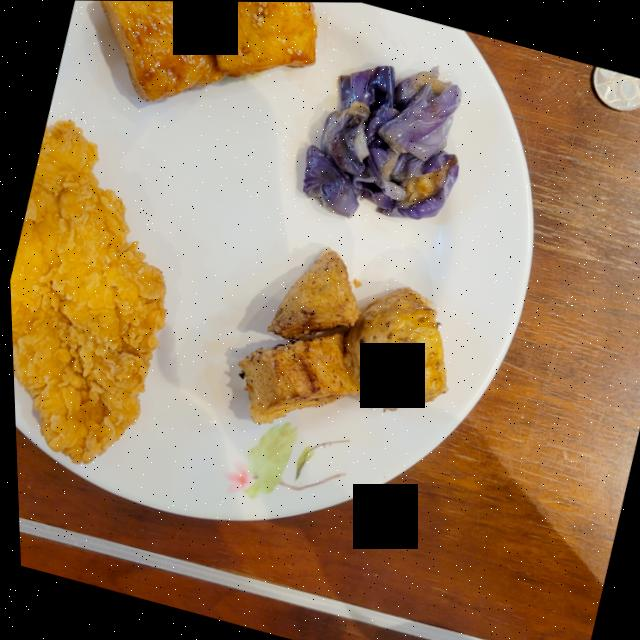coin: (592, 65, 640, 110)
creamy tofu: (100, 1, 317, 101)
fried chicken cutlet: (8, 120, 163, 463)
fried potato: (235, 247, 444, 423)
